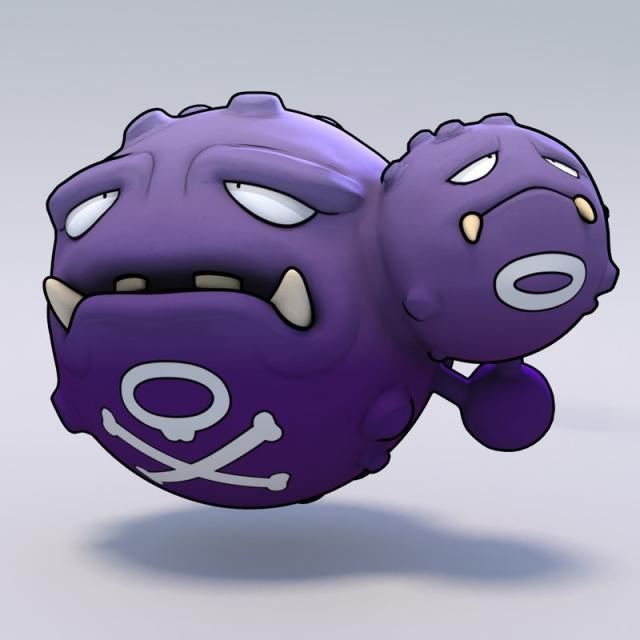Weezing: (37, 96, 624, 510)
